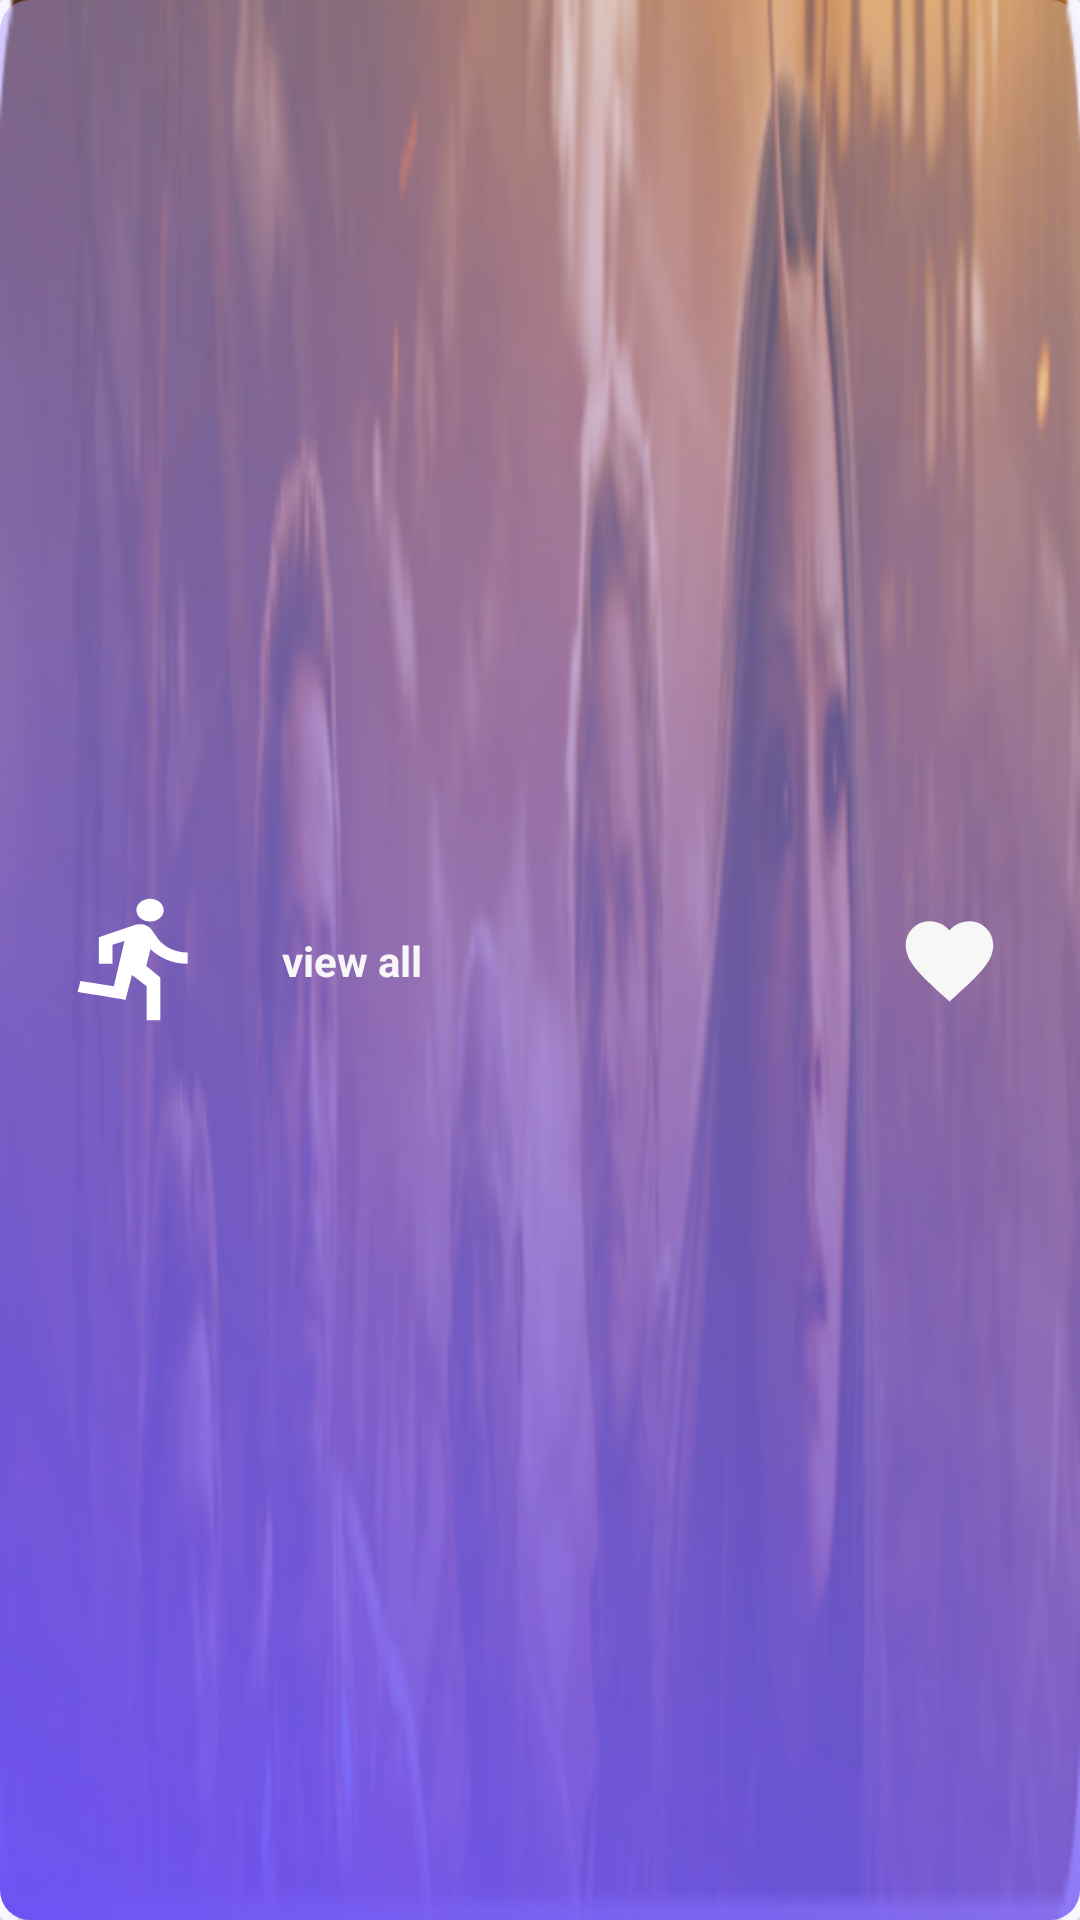

Named icons in this screenshot (1080x1920) and their bounding boxes, (x1,y1,x2,y2):
favorite: (905,921,994,1002)
sport cat: (77,898,188,1021)
